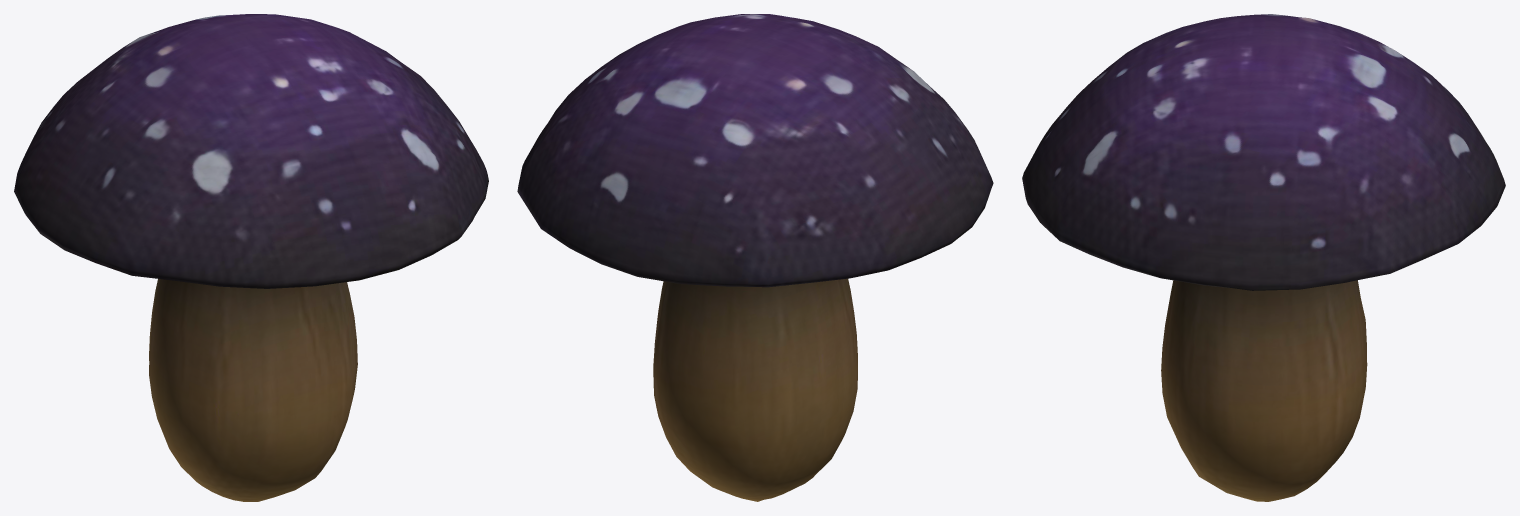
The model's file is 13096bb2ec90_5fd0bca5c8e0_lowpoly_magic_mushr.glb.
The picture shows the model from 3 angles, left to right: view 1: azimuth 30°, elevation 25°; view 2: azimuth 150°, elevation 25°; view 3: azimuth 270°, elevation 25°; orthographic projection.
Parts seen in each view (by area): view 1: mesh; view 2: mesh; view 3: mesh.
Part boxes in pixels (box(x1,y1,x2,y2)): mesh: box(14, 14, 488, 501); mesh: box(517, 14, 993, 501); mesh: box(1022, 14, 1505, 501).
Bounding box in the file's own units: 0.9321 × 0.9958 × 0.9415.
Materials: 1 (1 with a texture image).
